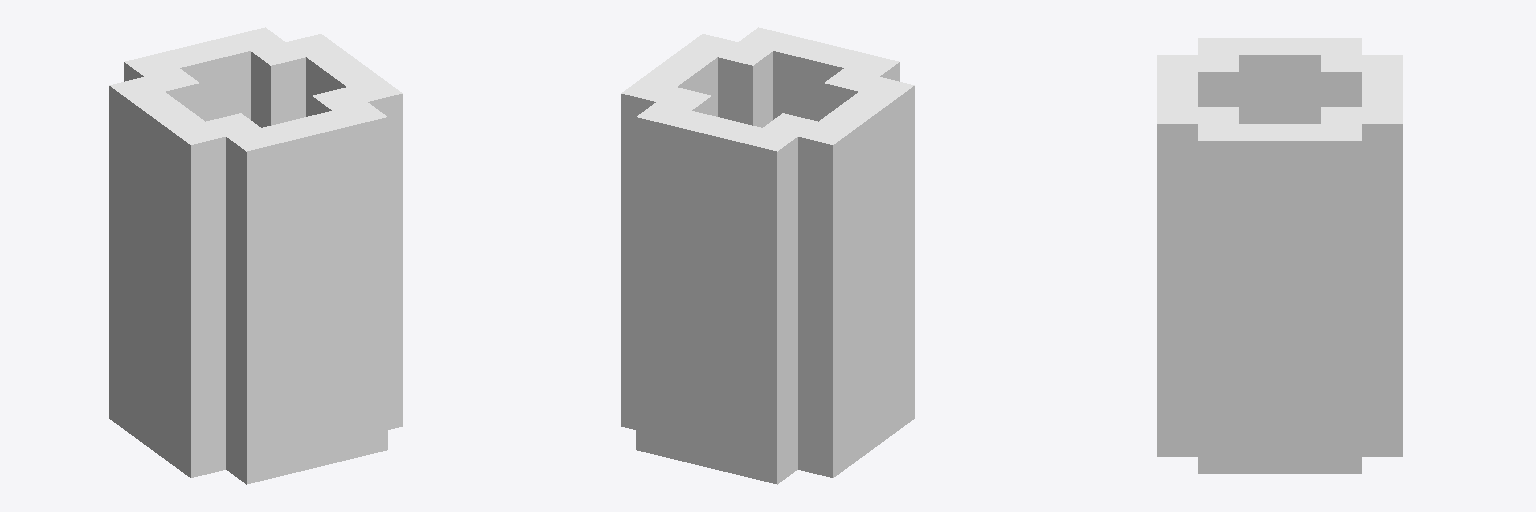
File: prop_trashcan.obj
3 renders of one model, left to right at view 1: azimuth 30°, elevation 25°; view 2: azimuth 150°, elevation 25°; view 3: azimuth 270°, elevation 25°, orthographic.
Parts seen in each view (by area): view 1: object 1; view 2: object 1; view 3: object 1.
Part boxes in pixels (bbox=[...]): object 1: bbox=[109, 27, 402, 484]; object 1: bbox=[621, 27, 914, 484]; object 1: bbox=[1157, 38, 1402, 473].
Size of the model in its own units: 0.6 by 0.9 by 0.6.